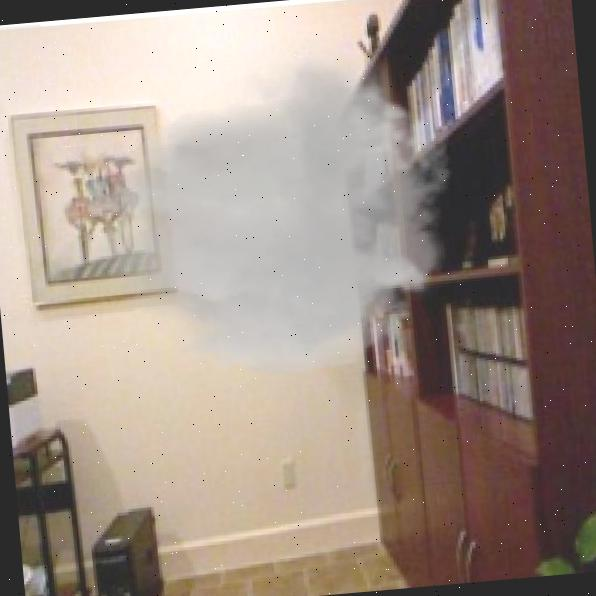smoke: (56, 18, 485, 401)
